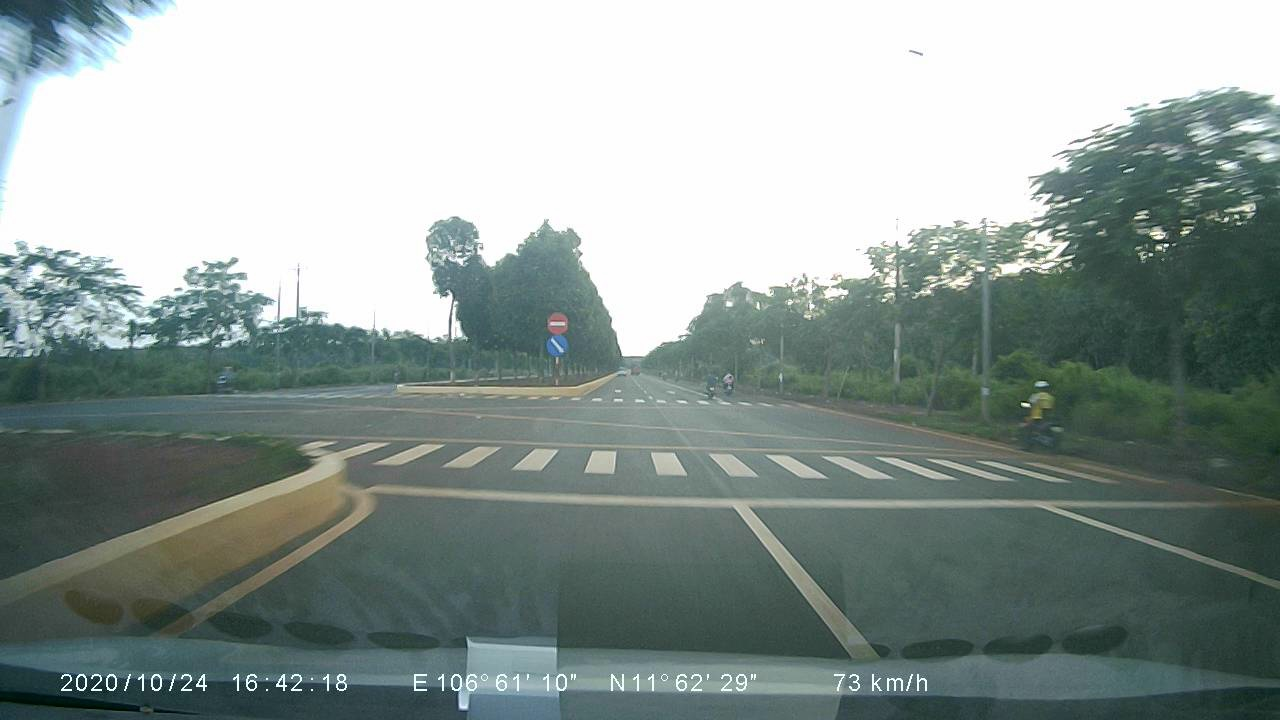Cam di nguoc chieu: (544, 309, 574, 333)
Huong di phai re phai: (543, 333, 570, 359)
